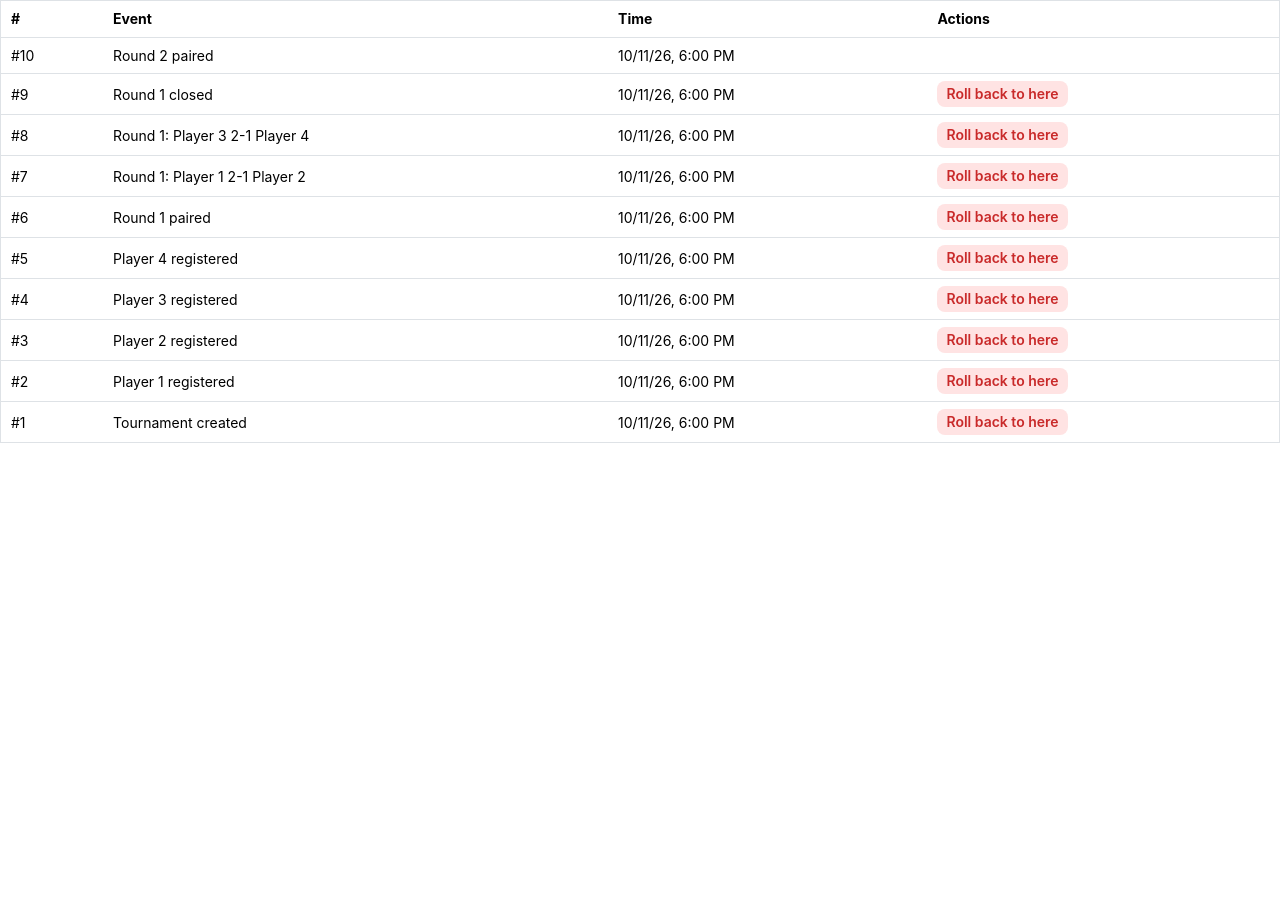
HistoryPanel › names the status after the last closed round, or setup with no rounds
Click the button "Roll back to here" in the row of "#9". click: (1002, 94)
box: x1=937 y1=81 x2=1068 y2=107
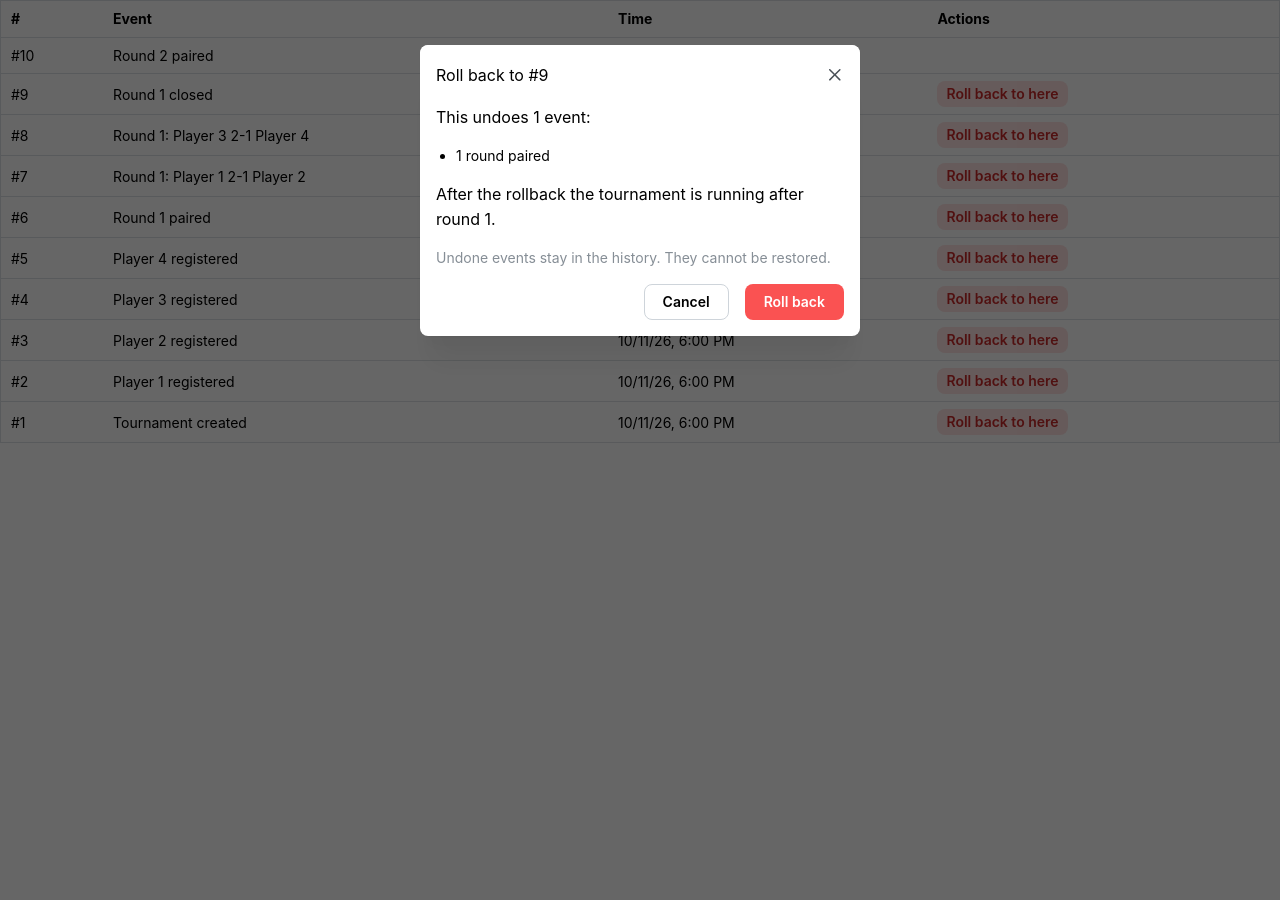
Check: the text "After the rollback the tournament is running after round 1." is shown, box x1=436 y1=182 x2=844 y2=232
Check: the text "1 round paired" is shown, box x1=456 y1=146 x2=550 y2=166
Click the button "Cancel". click: (686, 302)
box: x1=644 y1=284 x2=729 y2=320
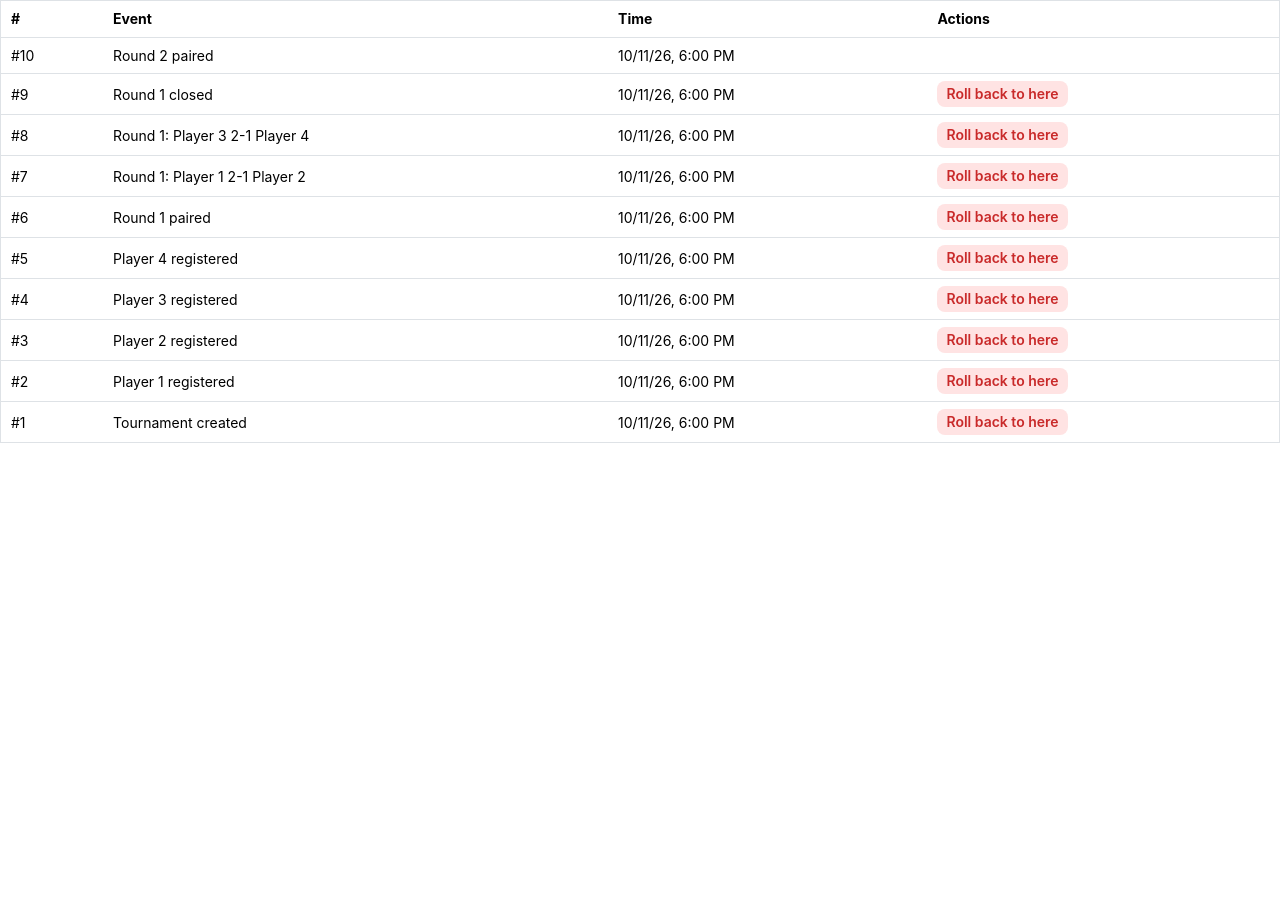
Click the button "Roll back to here" in the row of "#5". click: (1002, 258)
box: x1=937 y1=245 x2=1068 y2=271
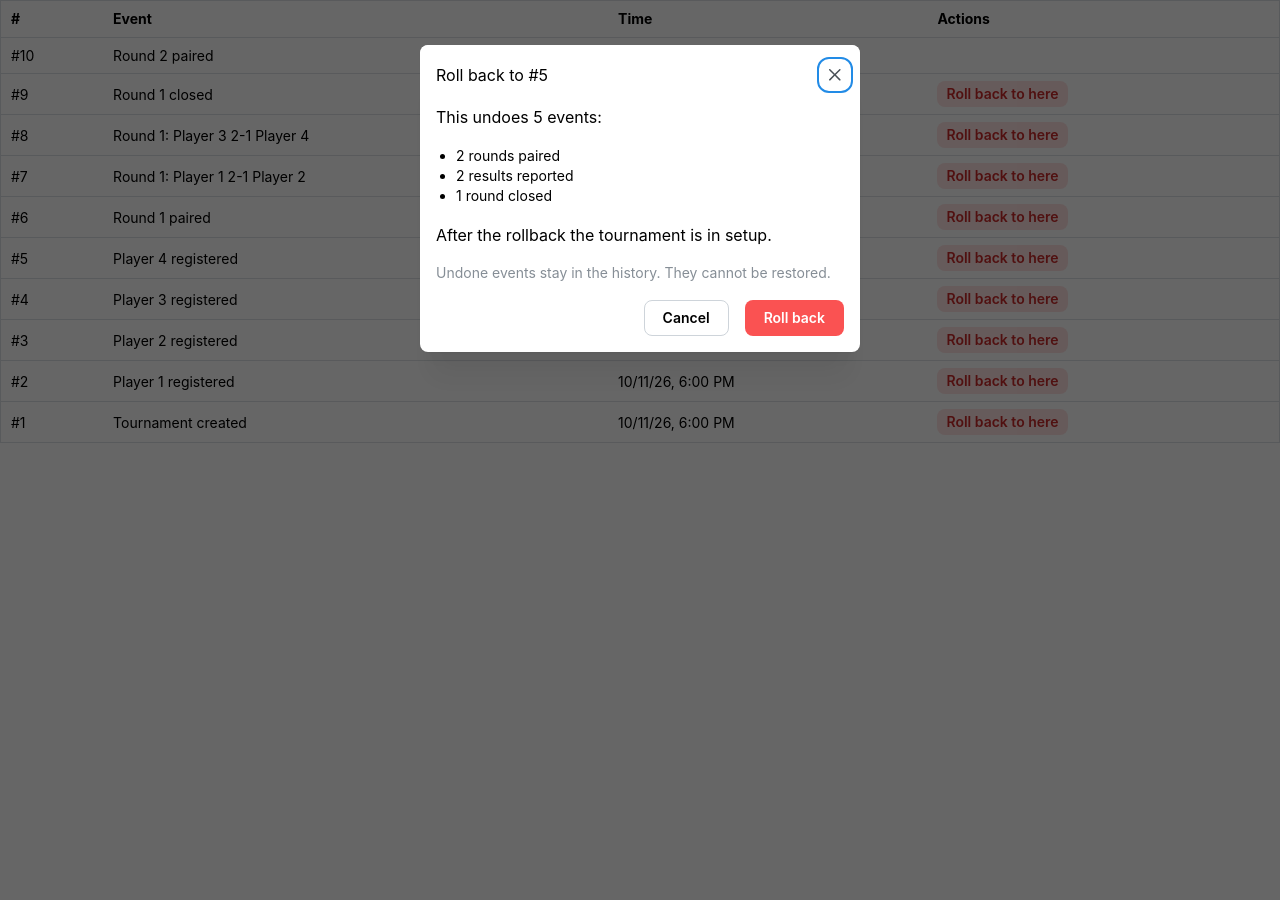
Check: the text "This undoes 5 events:" is shown, box x1=436 y1=107 x2=602 y2=127
Check: the text "After the rollback the tournament is in setup." is shown, box x1=436 y1=225 x2=772 y2=245
